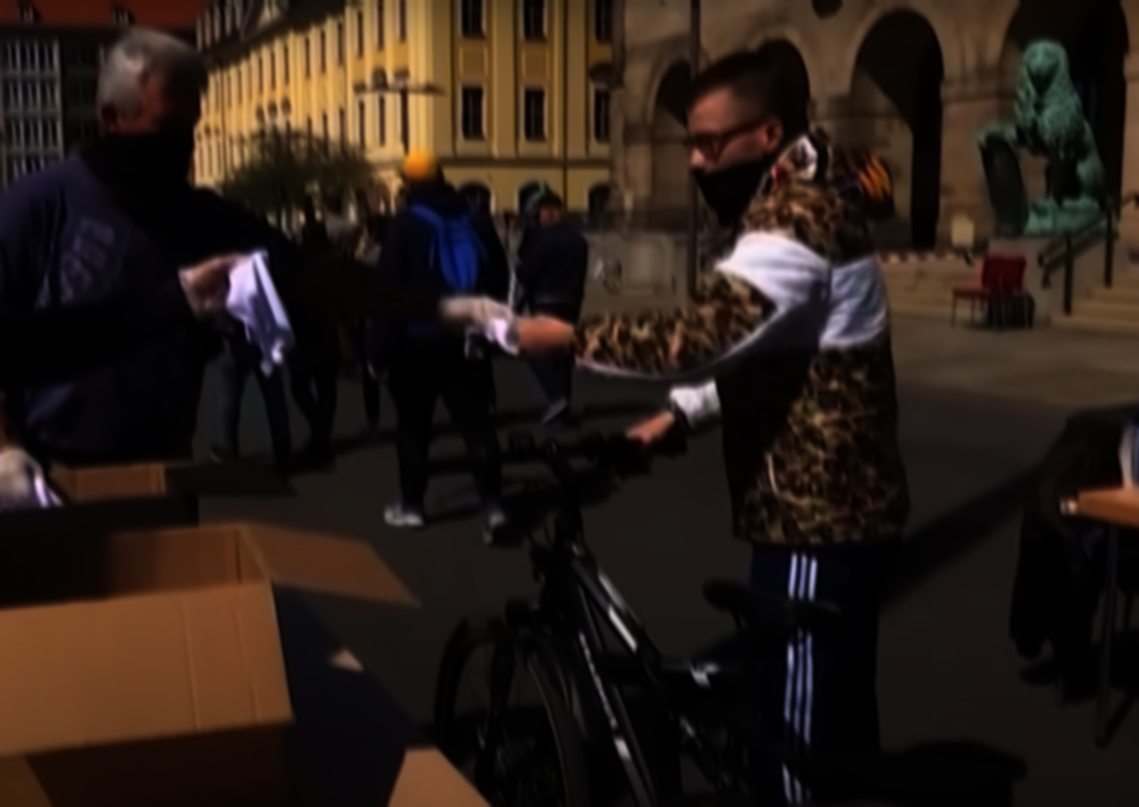mask_weared_incorrect: (678, 47, 805, 222)
